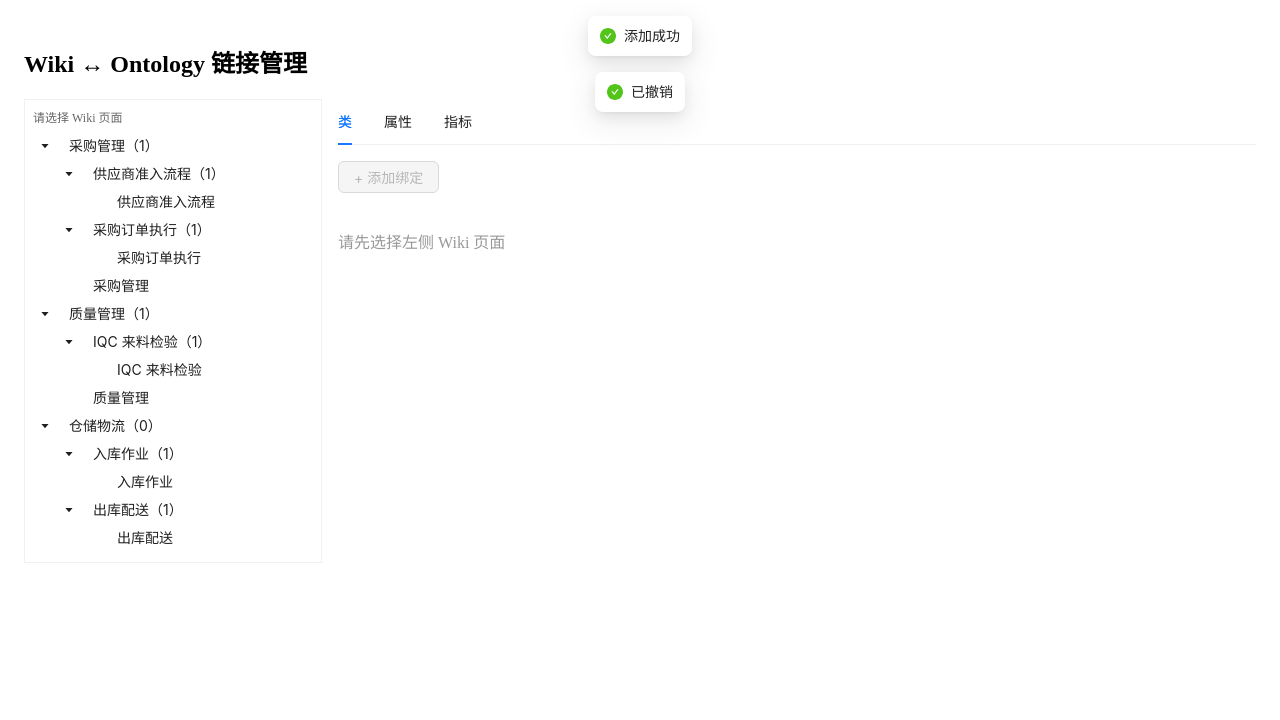
链接列表显示对象名 › 无别名时只显示物理名
The width and height of the screenshot is (1280, 720).
What coordinates should you click on to do the following:
click the element showing "供应商准入流程"
I would click on:
 (166, 202)
Its box is [109,190,223,214].
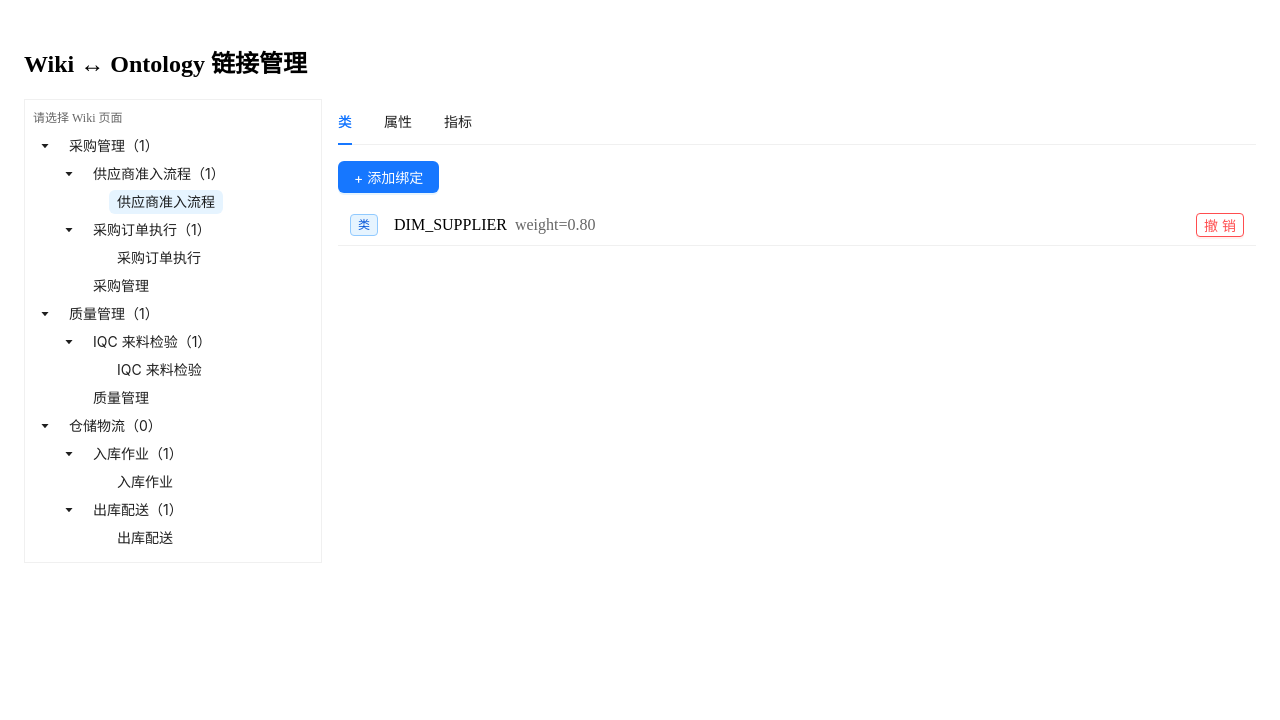
Check: the button "+ 添加绑定" is enabled, box [338,161,439,193]
Check: the text "DIM_SUPPLIER" is shown, box [394,216,507,234]
